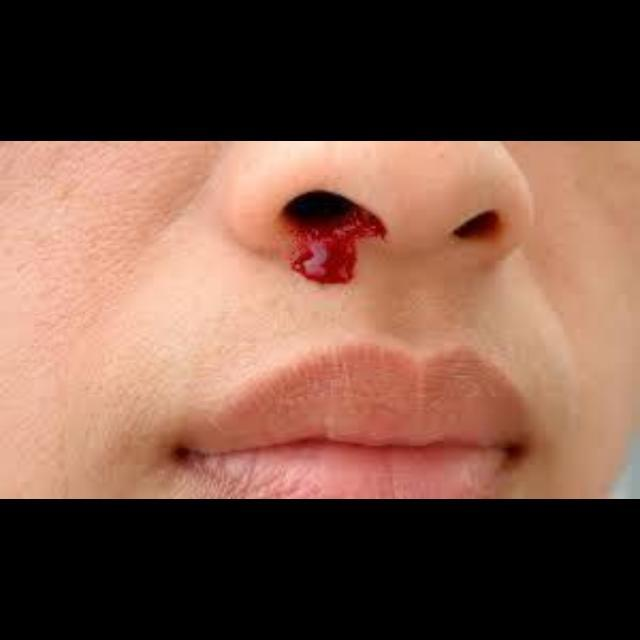blood: (281, 212, 388, 284)
